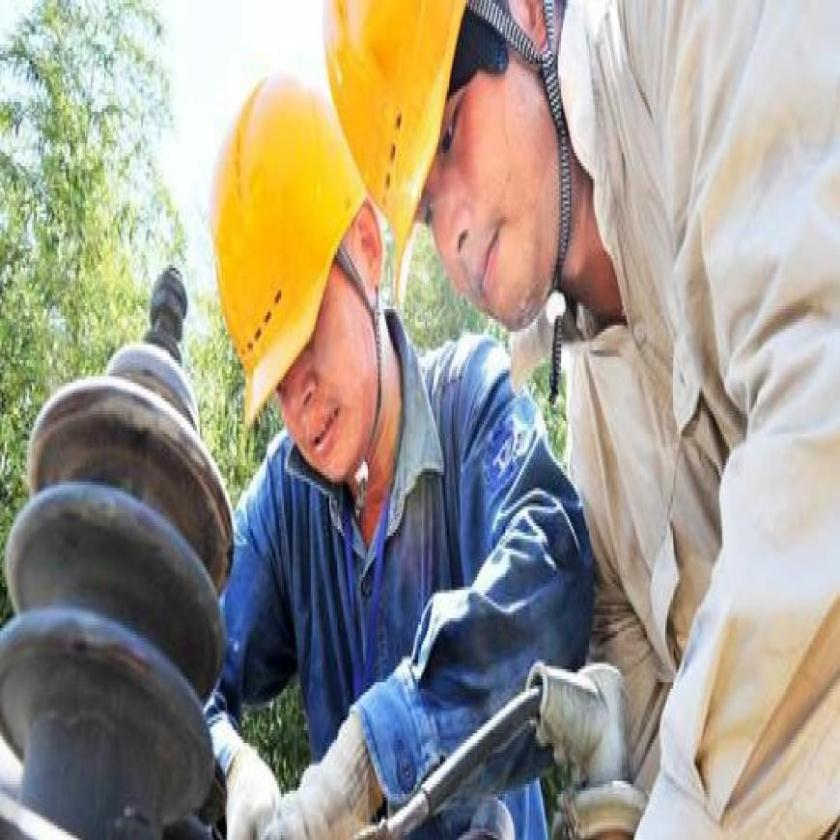Con_casco: (320, 0, 566, 341), (211, 68, 388, 501)
